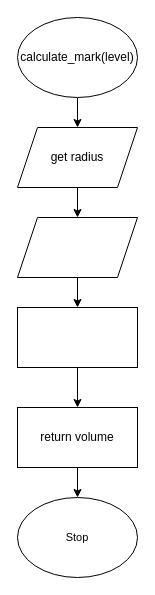
Some shapes in this 155 by 595 pixel diagram are drawn without their labels. Here are the shapes that lost their labels. From the top down, the box of each, then its label:
(16, 216, 138, 278): get height
(16, 306, 138, 368): volume = (math.pi * (raidus ** 2)) * height
